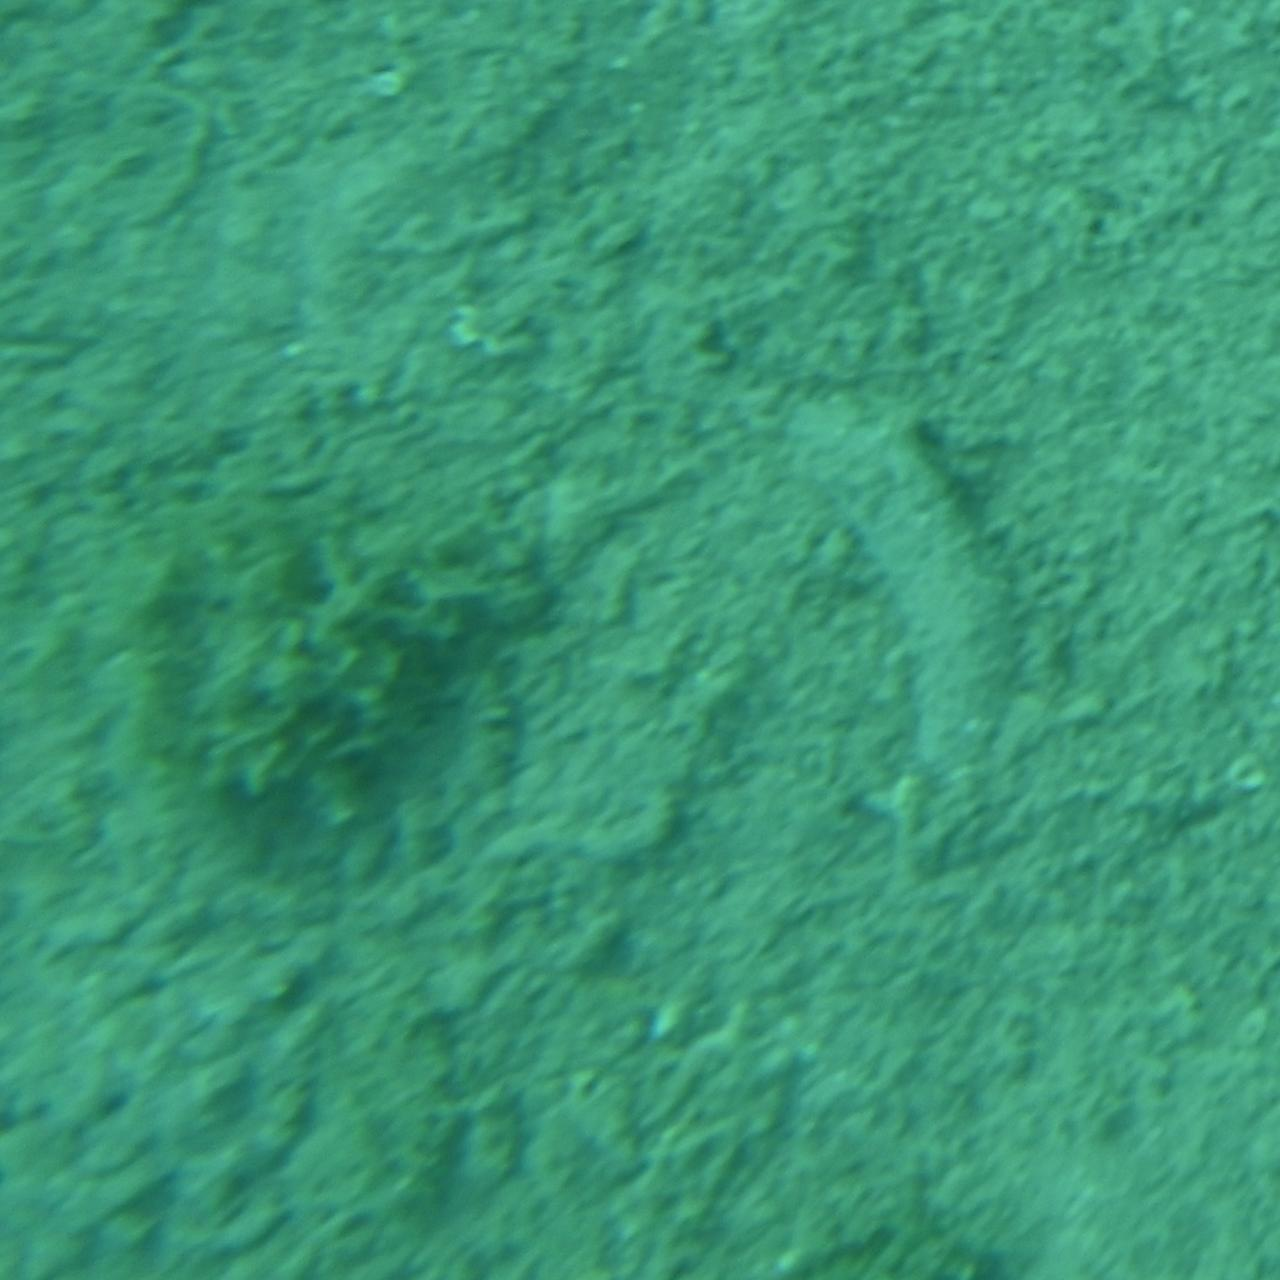Holothuria tubulosa: (808, 372, 1058, 837)
Phaeophyceae -cfr Cystoseira-: (132, 493, 561, 858)
